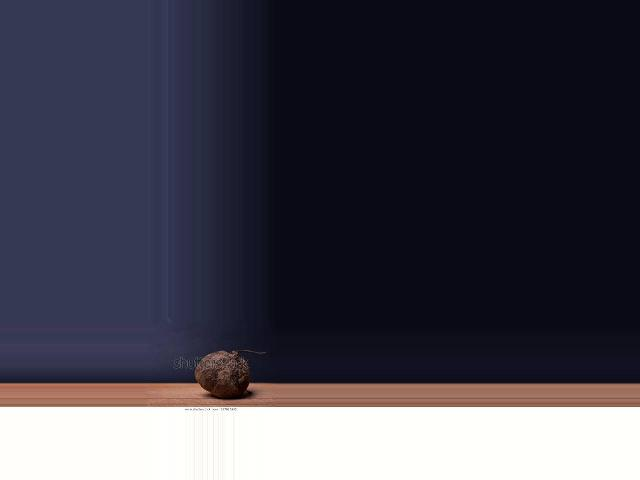beet: (195, 350, 267, 398)
